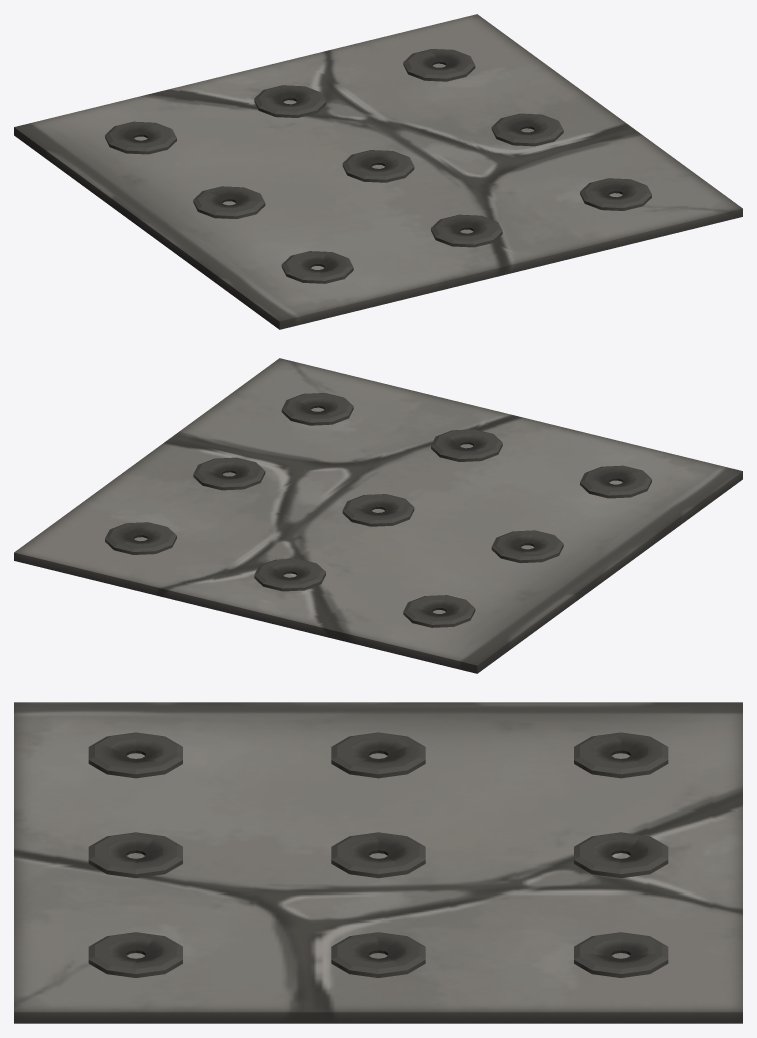
File: SM_baseSpike_TRAP.fbx
3 views of the same model, one above another, from view 1: azimuth 30°, elevation 25°; view 2: azimuth 150°, elevation 25°; view 3: azimuth 270°, elevation 25° (orthographic). The views are drawn at different scales.
Parts seen in each view (by area): view 1: SM_baseSpike_TRAP; view 2: SM_baseSpike_TRAP; view 3: SM_baseSpike_TRAP.
Boxes of the visible parts, x1,y1,x2,y2 form: SM_baseSpike_TRAP: (14,14,742,329); SM_baseSpike_TRAP: (14,358,742,673); SM_baseSpike_TRAP: (14,702,742,1023).
Bounding box in the file's own units: 2.28 × 0.0607 × 2.27.
